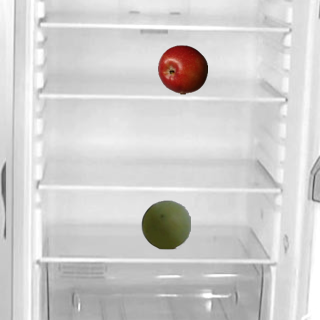Apple Braeburn: (157, 44, 207, 94)
Grape White 4: (140, 199, 190, 249)
